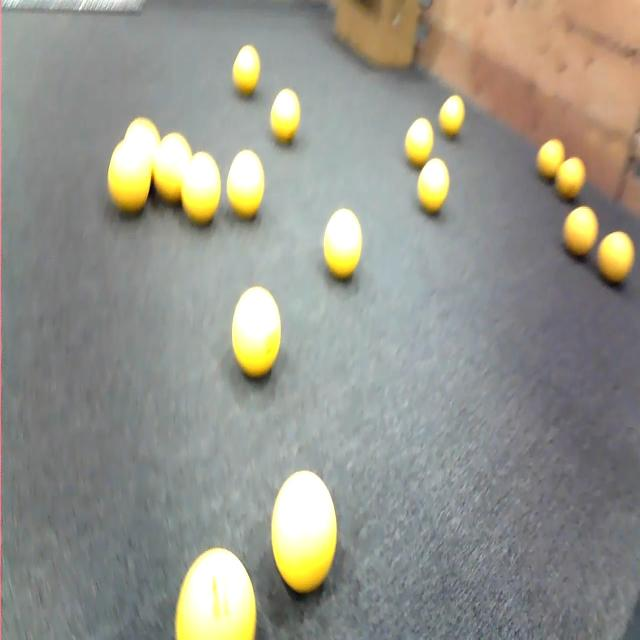fuel: (272, 471, 337, 593), (175, 549, 256, 639), (232, 287, 281, 377), (108, 140, 151, 215), (153, 132, 193, 204), (182, 152, 220, 224), (324, 208, 362, 279), (227, 149, 264, 219), (597, 232, 634, 284), (417, 159, 449, 214), (563, 206, 598, 256), (270, 88, 300, 143), (125, 118, 160, 161), (405, 118, 433, 167), (233, 45, 260, 95), (555, 158, 585, 199), (537, 139, 565, 180), (439, 96, 465, 137)
